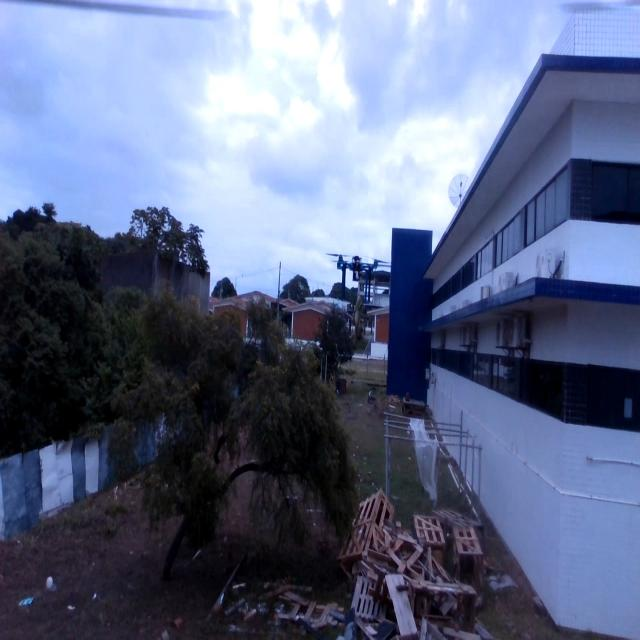-uav-: (315, 237, 400, 326)
